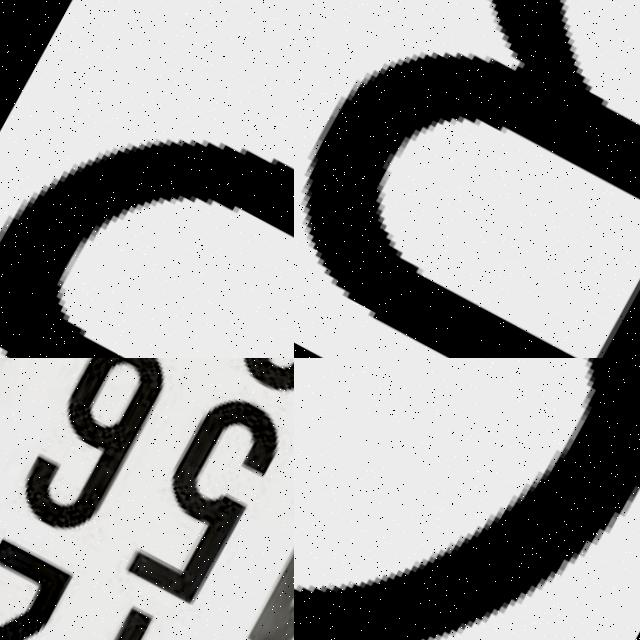1: (40, 598, 187, 640)
2: (0, 532, 88, 640)
4: (226, 445, 294, 640)
5: (115, 382, 294, 612)
6: (5, 358, 186, 543)
7: (0, 358, 71, 489)
O: (294, 358, 640, 640)
P: (0, 136, 294, 358)
R: (294, 0, 640, 358)
